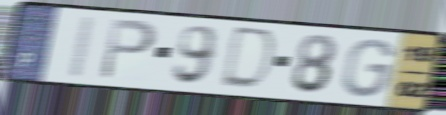8: (289, 32, 339, 96)
9: (171, 24, 220, 87)
D: (217, 25, 280, 94)
G: (340, 37, 397, 100)
I: (64, 13, 100, 81)
P: (97, 16, 160, 82)
